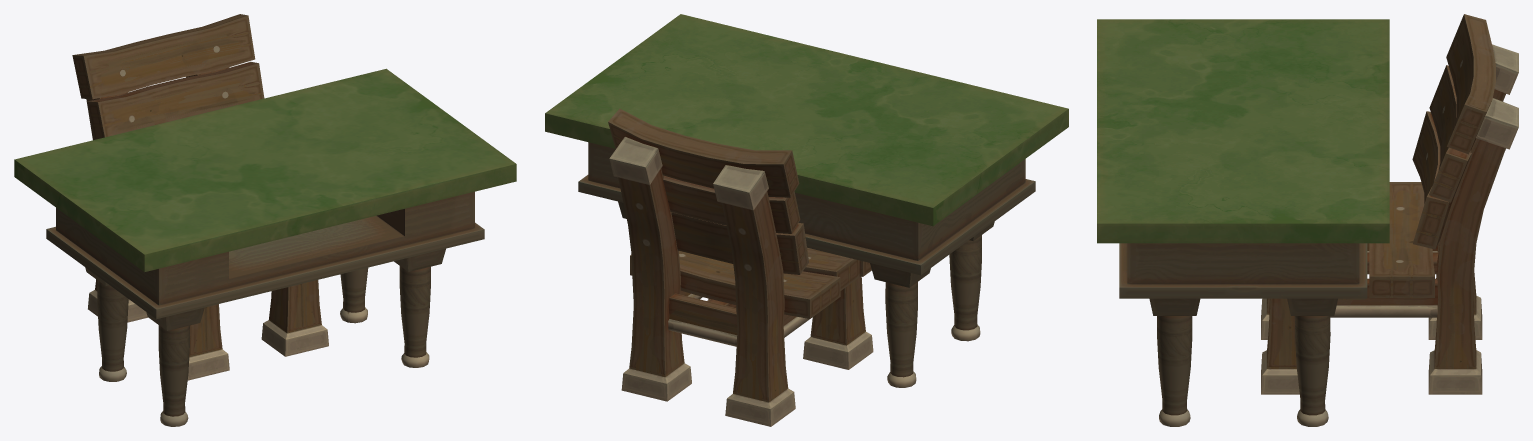
The model's file is Table.fbx.
The picture shows the model from 3 angles, left to right: view 1: azimuth 30°, elevation 25°; view 2: azimuth 150°, elevation 25°; view 3: azimuth 270°, elevation 25°; orthographic projection. The views are drawn at different scales.
Visible parts, largest first — view 1: SM_table_02_box.mo, SM_chair_01.mo; view 2: SM_table_02_box.mo, SM_chair_01.mo; view 3: SM_table_02_box.mo, SM_chair_01.mo.
Boxes of the visible parts, box(x1,y1,x2,y2) form: SM_table_02_box.mo: box(14, 68, 516, 426); SM_chair_01.mo: box(72, 14, 328, 380); SM_table_02_box.mo: box(545, 14, 1068, 387); SM_chair_01.mo: box(608, 108, 873, 426); SM_table_02_box.mo: box(1097, 19, 1389, 426); SM_chair_01.mo: box(1261, 14, 1518, 394).
Bounding box in the file's own units: 150 × 101 × 131.
Materials: 2 (2 with a texture image).
